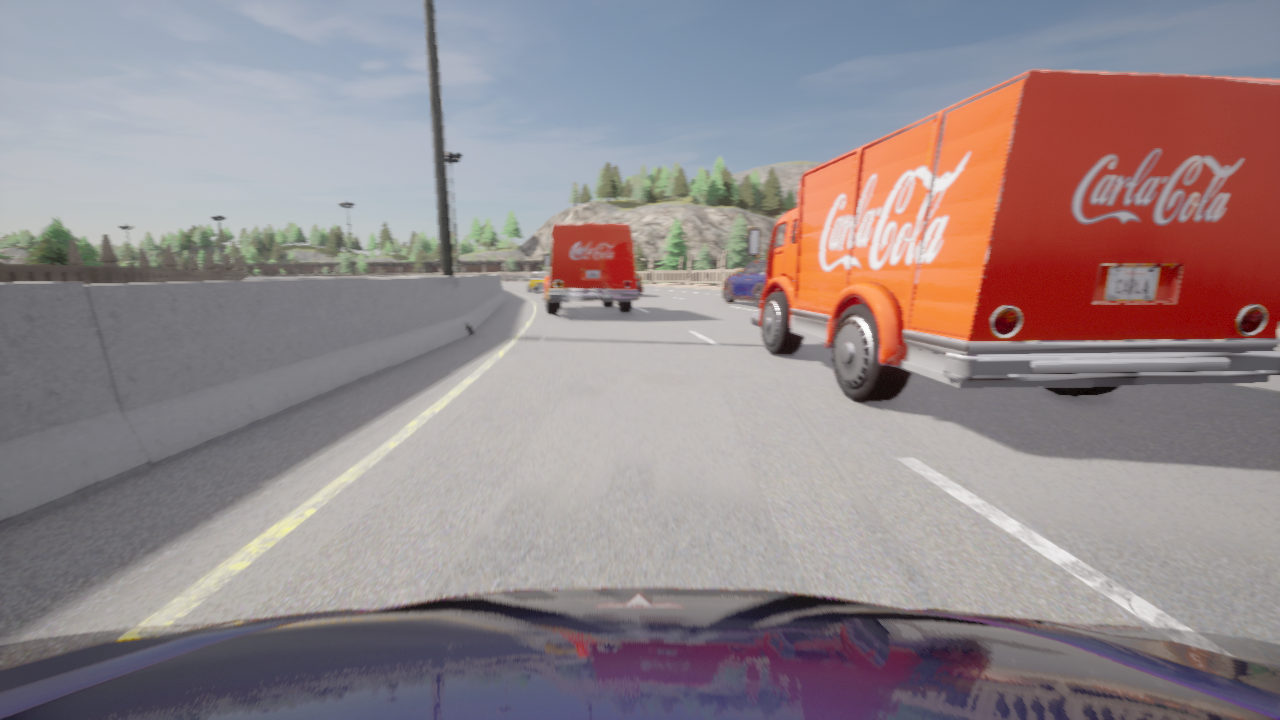cyclist: (747, 69, 1279, 401), (0, 588, 1279, 719), (543, 223, 638, 314), (723, 260, 766, 307), (527, 271, 547, 292), (635, 272, 642, 295)
